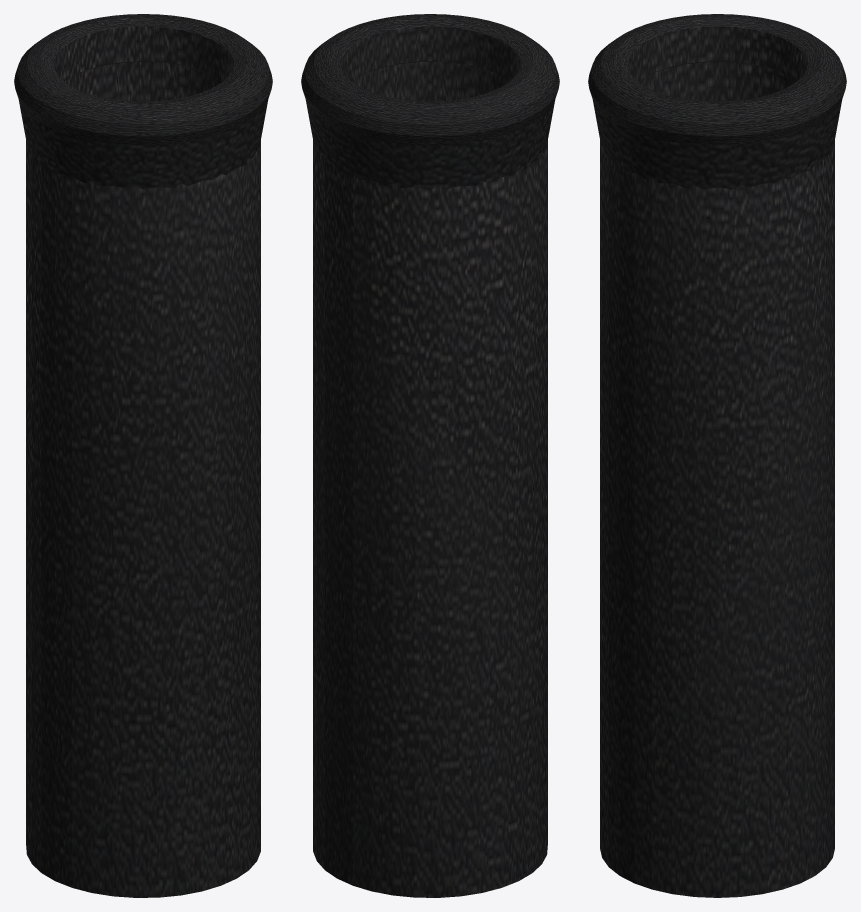
The model's file is 6inchTube.fbx.
3 renders of one model, left to right at view 1: azimuth 30°, elevation 25°; view 2: azimuth 150°, elevation 25°; view 3: azimuth 270°, elevation 25°, orthographic.
Parts seen in each view (by area): view 1: Cylinder, Torus; view 2: Cylinder, Torus; view 3: Cylinder, Torus.
Boxes of the visible parts, box(x1,y1,x2,y2) form: Cylinder: box(26, 62, 260, 897); Torus: box(14, 14, 272, 189); Cylinder: box(313, 62, 547, 897); Torus: box(301, 14, 559, 189); Cylinder: box(600, 62, 834, 897); Torus: box(588, 14, 846, 189).
Bounding box in the file's own units: 0.275 × 0.924 × 0.275.
1 material, 1 textured.
